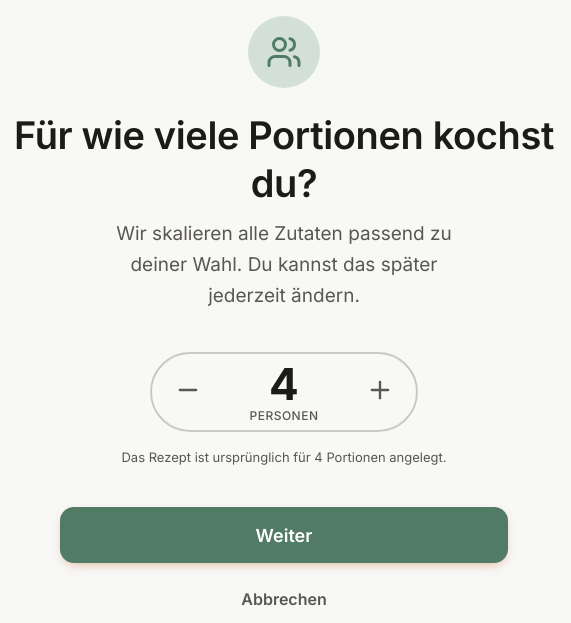
Test: PortionsPickerOverlay › decrements the value via the minus button
Click the button named "Portion verringern": [188, 390] box [152,354,224,426]
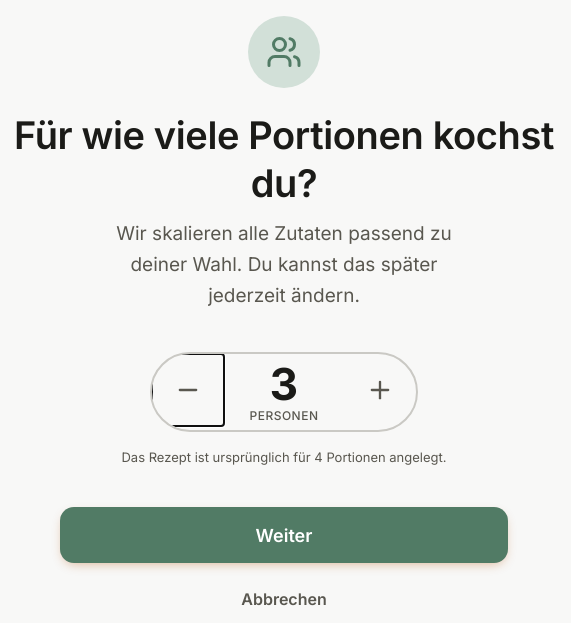
Expected: the text "3" is shown, [270,357,298,411]
